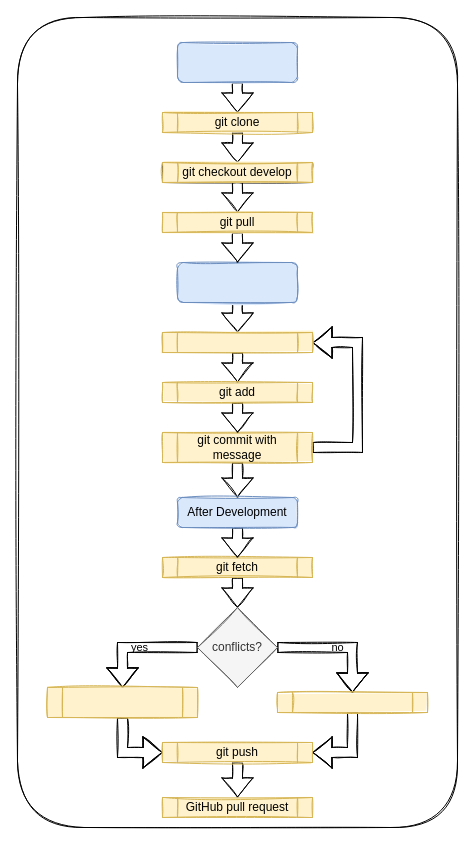
This 475x845 diagram has some shape labels left out. The centre of each missing label's shape, as x and y in pixels:
"Before Development" belongs at pixel 237 62.
"During Development" belongs at pixel 237 282.
"git merge" belongs at pixel 352 702.
"git merge or git rebase" belongs at pixel 122 702.
"make local changes" belongs at pixel 237 342.
